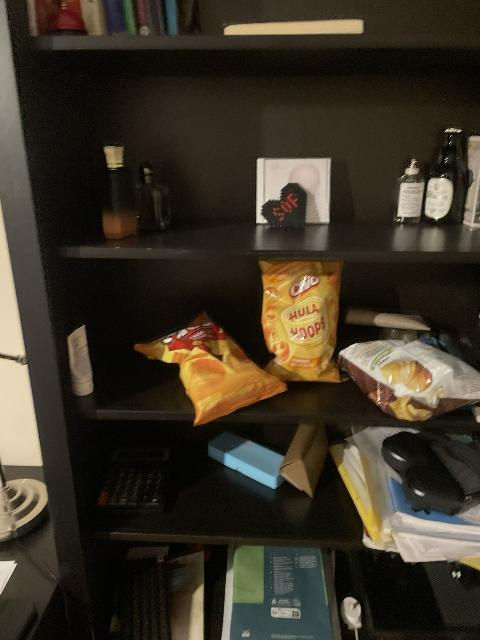Chio Cascaval 125g: (133, 313, 285, 426)
Chio Hula Hoops Cheese 70g: (262, 259, 345, 382)
Lays Beef Grilled Ribs 125g: (338, 337, 478, 420)
